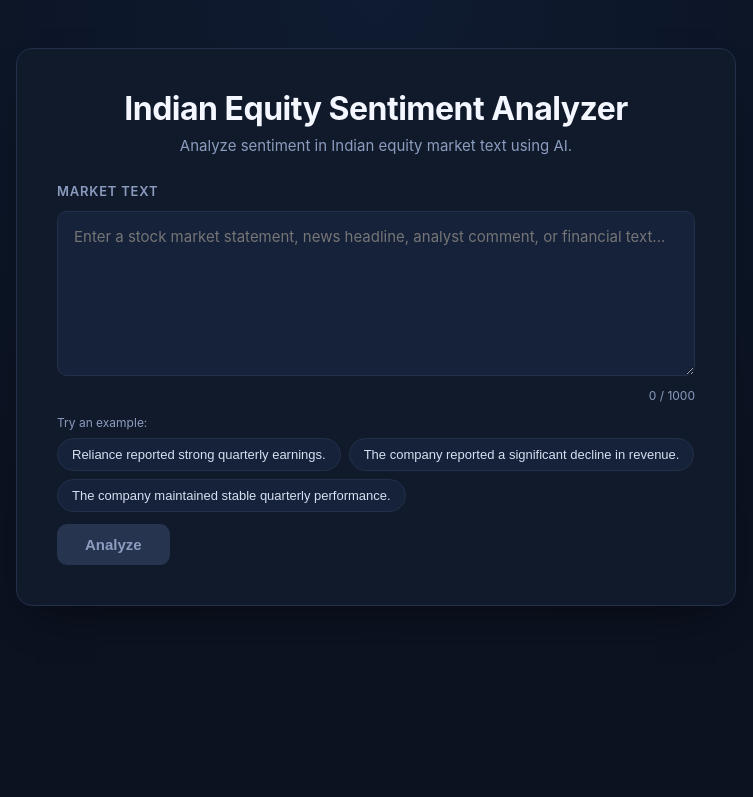
Test: App › renders a successful sentiment response in the result card
Type "Reliance reported strong quarterly earnings." into the text box with placeholder "Enter a stock market statement" at (376, 294), box x1=57 y1=211 x2=695 y2=376
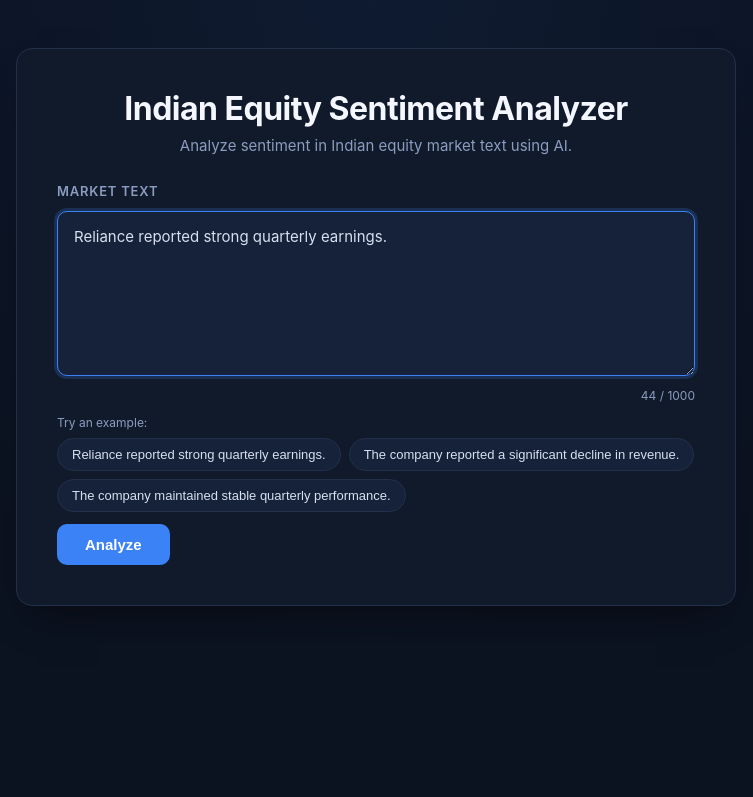
Click the button "Analyze" at (113, 544), box x1=57 y1=524 x2=170 y2=565
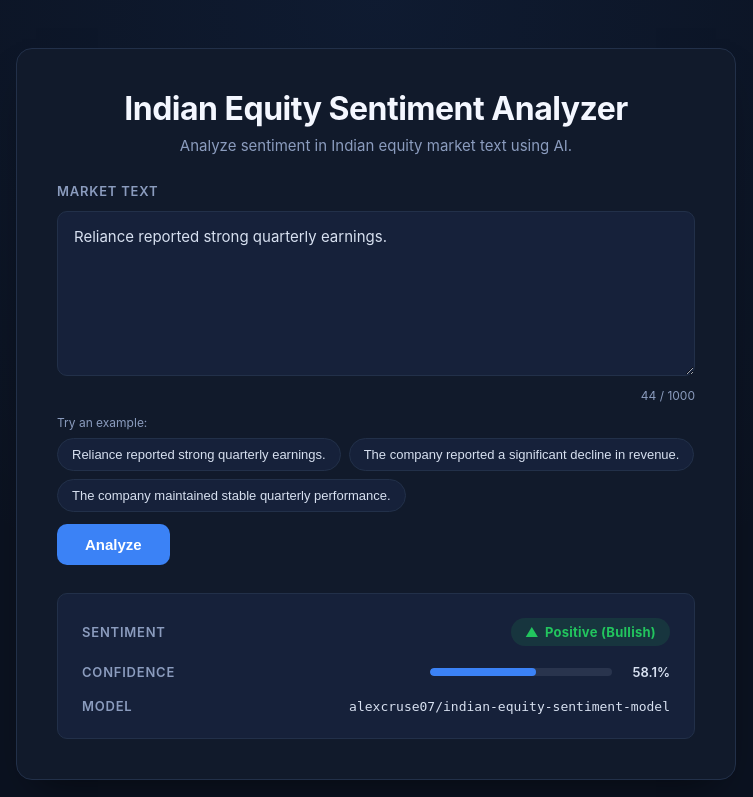
Check: the text "▲ Positive (Bullish)" is shown, box x1=511 y1=618 x2=670 y2=646
Check: the text "58.1%" is shown, box x1=632 y1=664 x2=670 y2=680
Check: the text "alexcruse07/indian-equity-sentiment-model" is shown, box x1=349 y1=698 x2=670 y2=714
